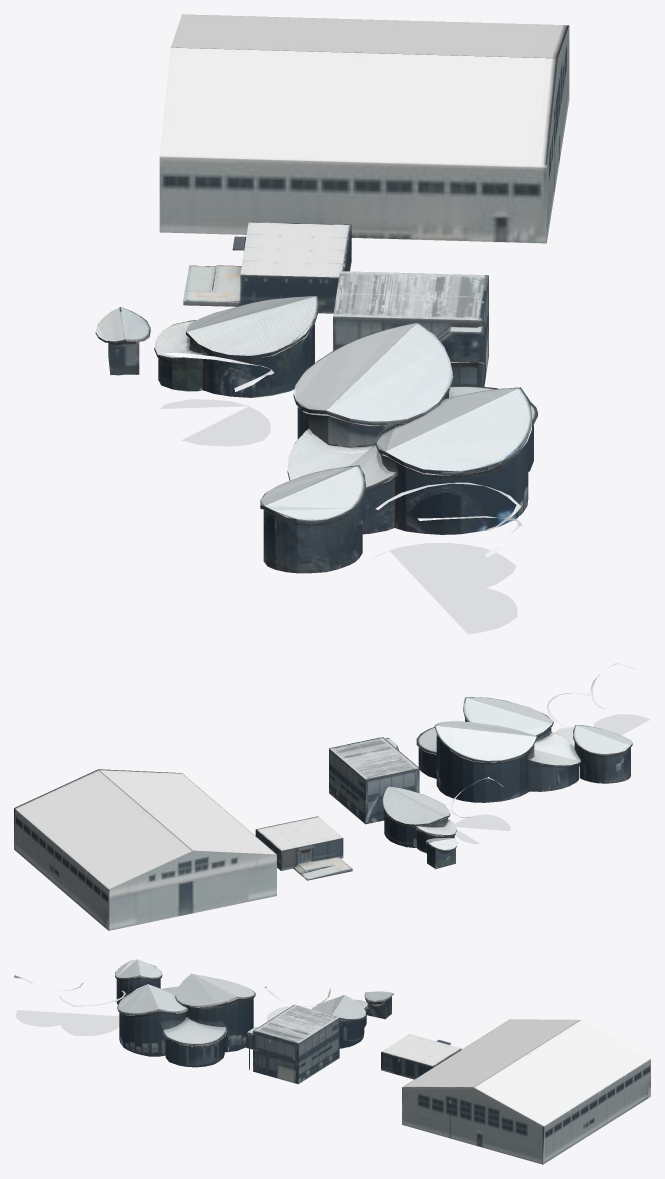
3 views of the same model, one above another, from view 1: azimuth 30°, elevation 25°; view 2: azimuth 150°, elevation 25°; view 3: azimuth 270°, elevation 25° (orthographic). The views are drawn at different scales.
Visible parts, largest first — view 1: Buildings_建物パビリオン; view 2: Buildings_建物パビリオン; view 3: Buildings_建物パビリオン.
Boxes of the visible parts, left/top/right/bottom form: Buildings_建物パビリオン: left=95, top=14, right=569, bottom=634; Buildings_建物パビリオン: left=14, top=663, right=650, bottom=930; Buildings_建物パビリオン: left=14, top=959, right=650, bottom=1164.
Size of the model in its own units: 60.99 by 9.34 by 94.74.
7 materials, 6 textured.
